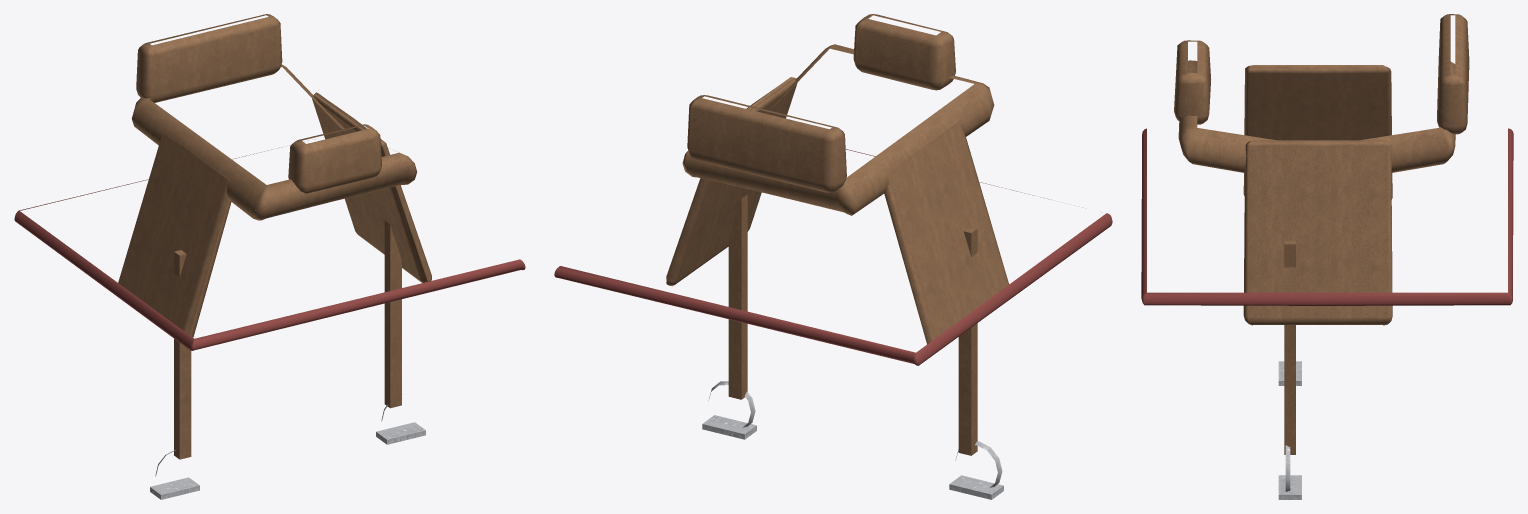
Rendered from saddle.glb.
The picture shows the model from 3 angles, left to right: view 1: azimuth 30°, elevation 25°; view 2: azimuth 150°, elevation 25°; view 3: azimuth 270°, elevation 25°; orthographic projection. The views are drawn at different scales.
Visible parts, largest first — view 1: saddle; view 2: saddle; view 3: saddle.
Part boxes in pixels (x1,y1,x2,y2): saddle: (14, 14, 525, 499); saddle: (554, 14, 1112, 499); saddle: (1141, 14, 1513, 499).
Size of the model in its own units: 0.86 by 0.925 by 0.8.
Materials: 3 (3 with a texture image).
